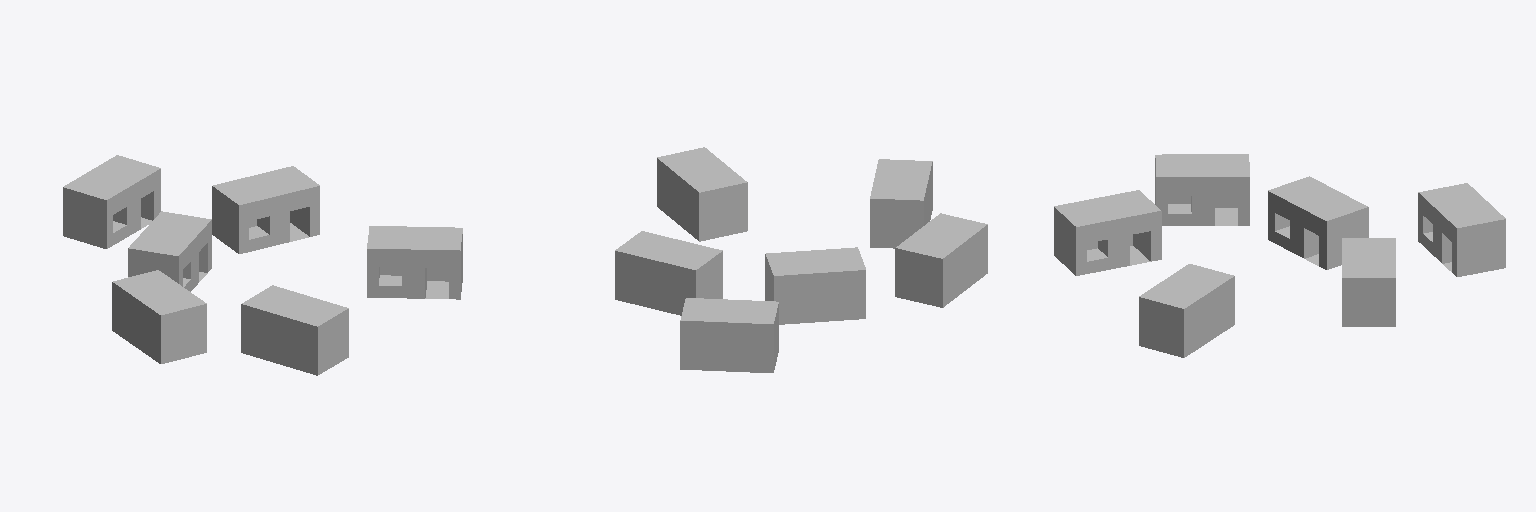
File: houses.obj
The picture shows the model from 3 angles: view 1: azimuth 30°, elevation 25°; view 2: azimuth 150°, elevation 25°; view 3: azimuth 270°, elevation 25°; orthographic projection.
Visible parts, largest first — view 1: Cube.025_Cube.029, Cube.023_Cube.027, Cube.027_Cube.031, Cube.028_Cube.032, Cube.026_Cube.030, Cube.024_Cube.028; view 2: Cube.027_Cube.031, Cube.023_Cube.027, Cube.024_Cube.028, Cube.026_Cube.030, Cube.028_Cube.032, Cube.025_Cube.029; view 3: Cube.025_Cube.029, Cube.028_Cube.032, Cube.026_Cube.030, Cube.024_Cube.028, Cube.027_Cube.031, Cube.023_Cube.027.
Boxes of the visible parts, x1=… form: Cube.025_Cube.029: x1=241, y1=285, x2=348, y2=375; Cube.023_Cube.027: x1=212, y1=166, x2=319, y2=253; Cube.027_Cube.031: x1=63, y1=155, x2=160, y2=248; Cube.028_Cube.032: x1=367, y1=226, x2=462, y2=299; Cube.026_Cube.030: x1=112, y1=270, x2=206, y2=363; Cube.024_Cube.028: x1=128, y1=211, x2=211, y2=291; Cube.027_Cube.031: x1=680, y1=298, x2=778, y2=372; Cube.023_Cube.027: x1=615, y1=231, x2=722, y2=315; Cube.024_Cube.028: x1=765, y1=247, x2=865, y2=324; Cube.026_Cube.030: x1=895, y1=213, x2=987, y2=307; Cube.028_Cube.032: x1=657, y1=147, x2=747, y2=241; Cube.025_Cube.029: x1=870, y1=159, x2=932, y2=248; Cube.025_Cube.029: x1=1054, y1=190, x2=1161, y2=275; Cube.028_Cube.032: x1=1139, y1=264, x2=1234, y2=357; Cube.026_Cube.030: x1=1155, y1=154, x2=1249, y2=225; Cube.024_Cube.028: x1=1268, y1=176, x2=1368, y2=269; Cube.027_Cube.031: x1=1418, y1=183, x2=1505, y2=276; Cube.023_Cube.027: x1=1342, y1=238, x2=1395, y2=326.
Bounding box in the file's own units: 13.59 × 2 × 16.71.